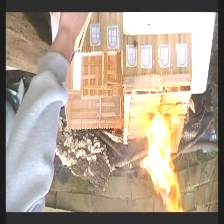fire: (143, 107, 191, 214)
